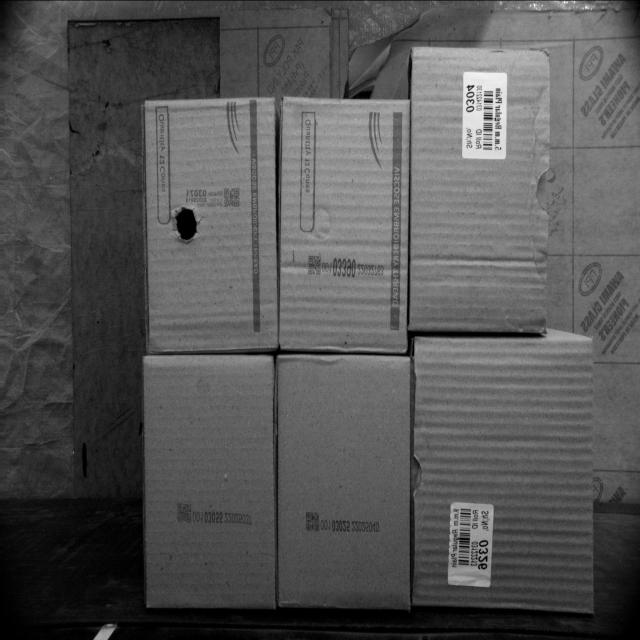cardboxes: (410, 340, 598, 609), (408, 48, 548, 336), (275, 352, 414, 611), (140, 96, 279, 352), (142, 352, 275, 609), (276, 97, 410, 350)
